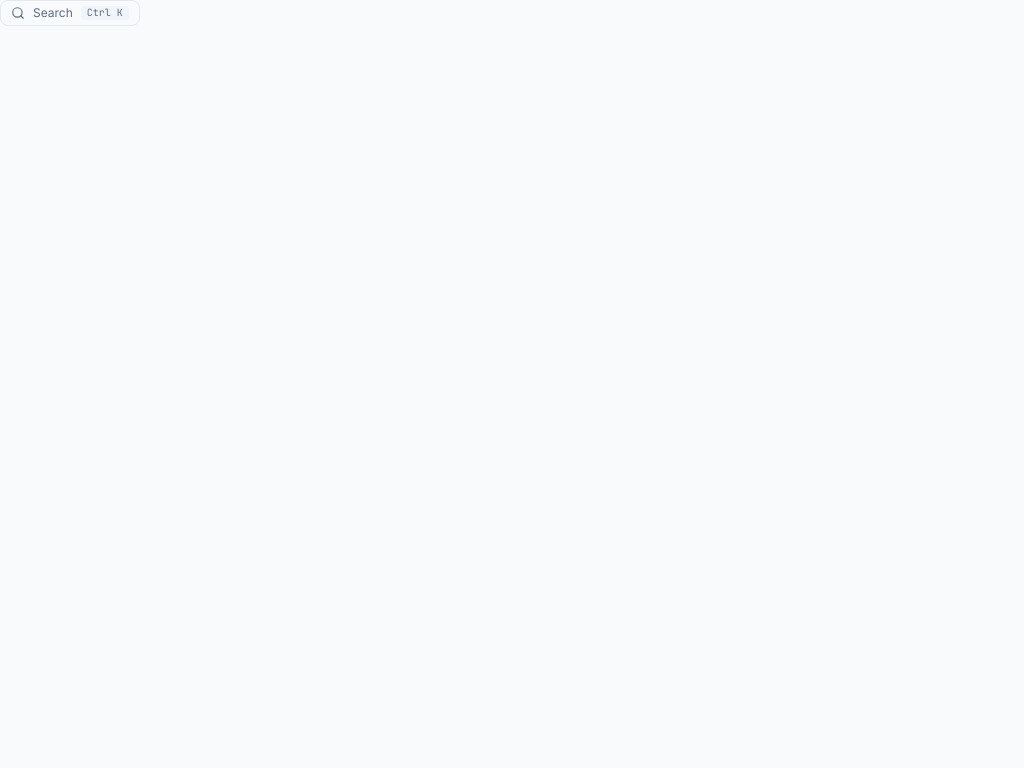
Scenario: CommandPalette › opens with Ctrl+K and goes to the page picked
Press k
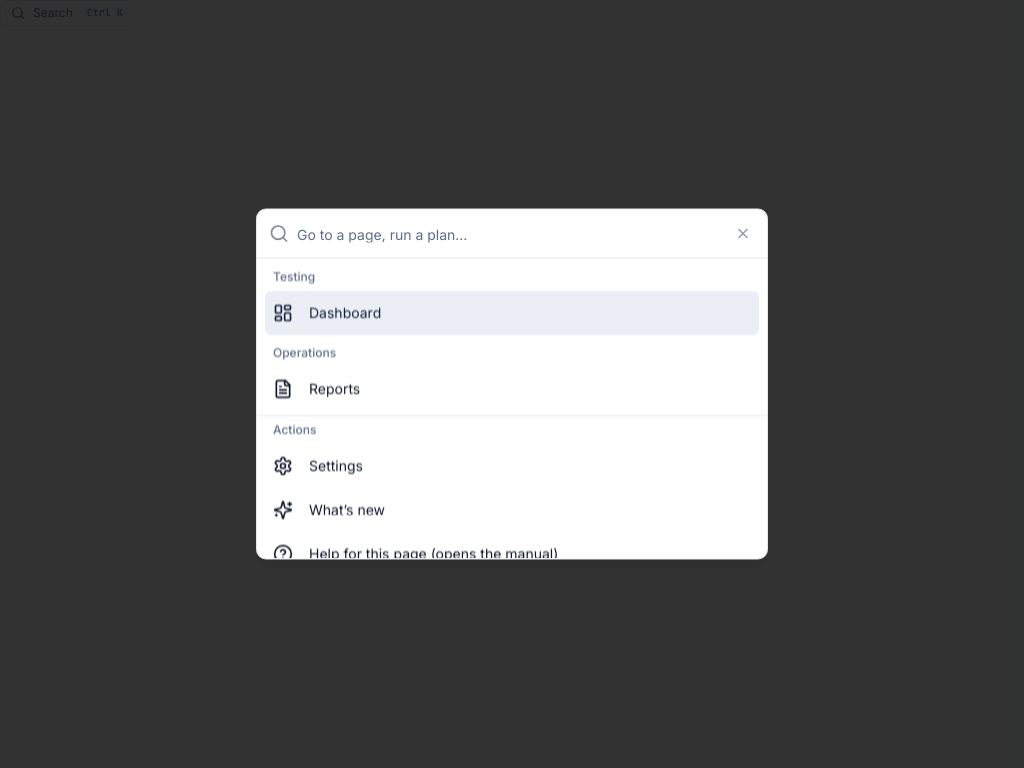
Result: the dialog is shown at left=256, top=208, right=768, bottom=560
Click the option "Reports" at {"x": 317, "y": 388}, box left=273, top=378, right=360, bottom=398
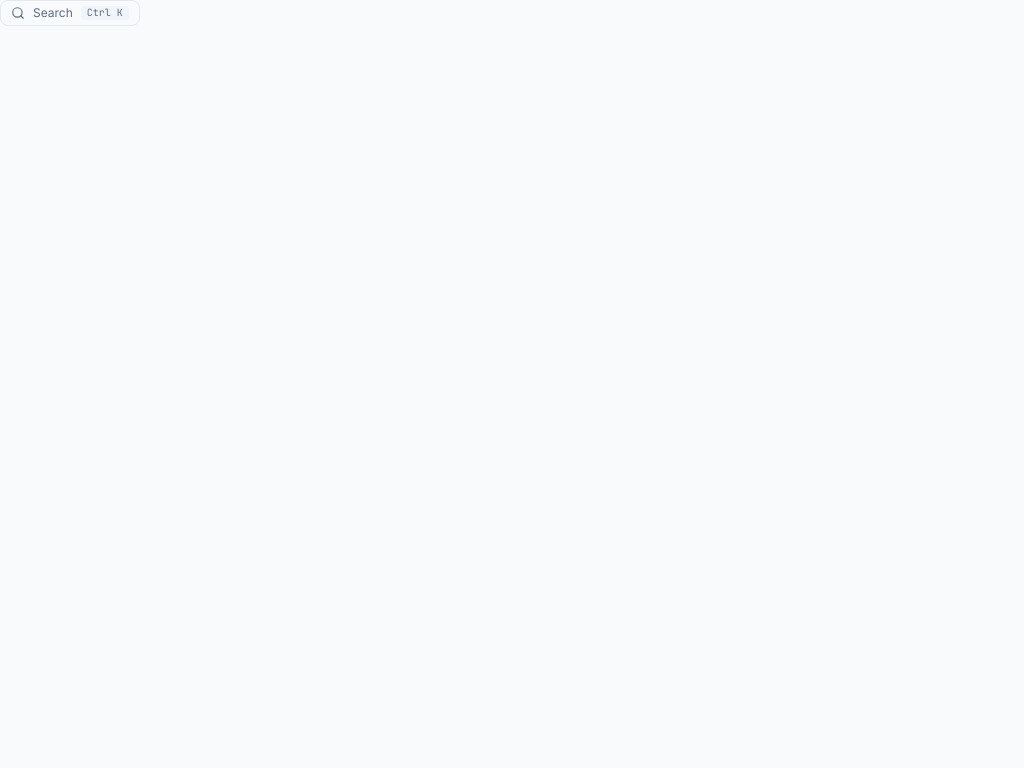
Result: the dialog is gone
